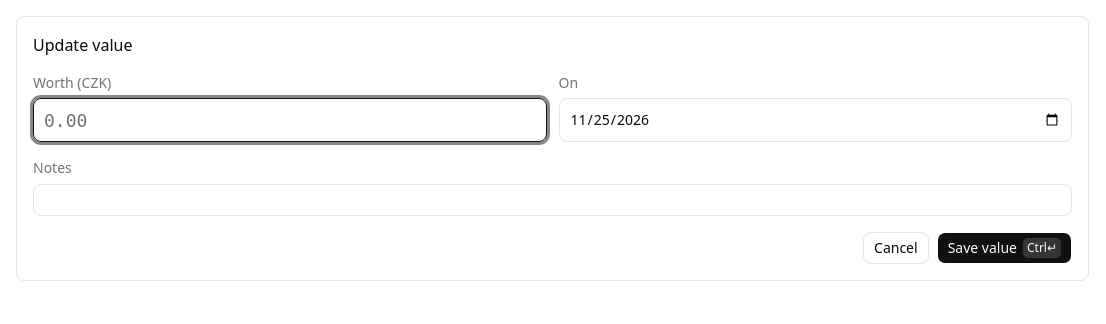
uses worth and put-in wording on a non-liability entry form
The width and height of the screenshot is (1106, 324).
Type "-100" into the field labelled "Worth (CZK)".
click(290, 120); type("-100")  # box [33,98,546,142]
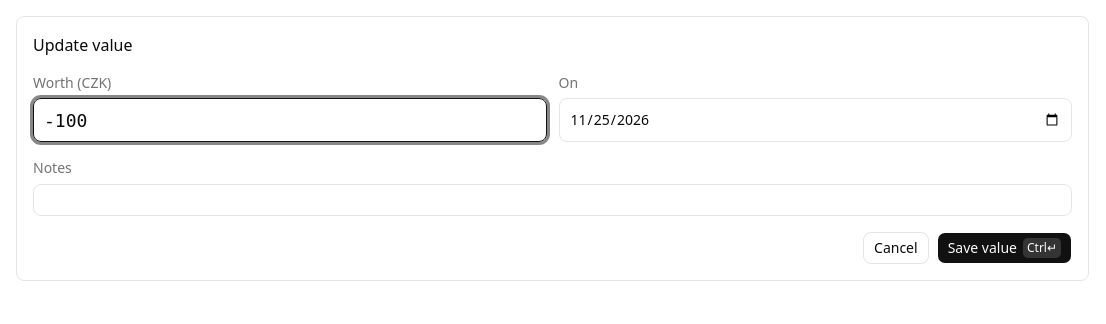
Click the button "Save value Ctrl↵".
click(1004, 248)  # box [937,232,1072,264]
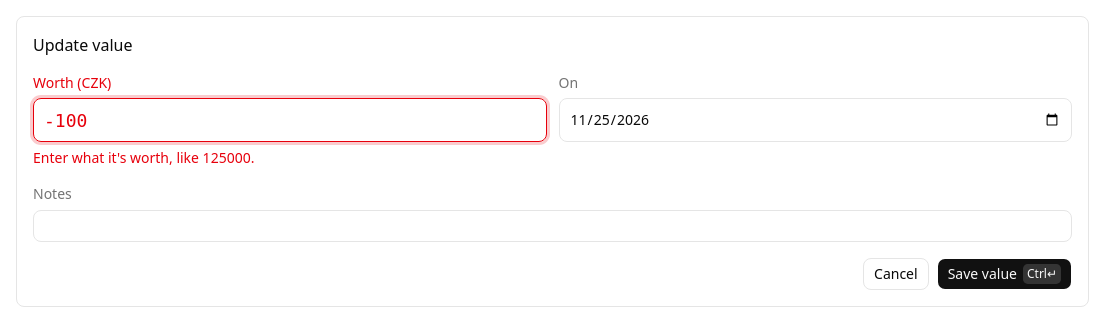
Check: the text "Enter what it's worth, like 125000." is shown, box [33,148,254,167]
